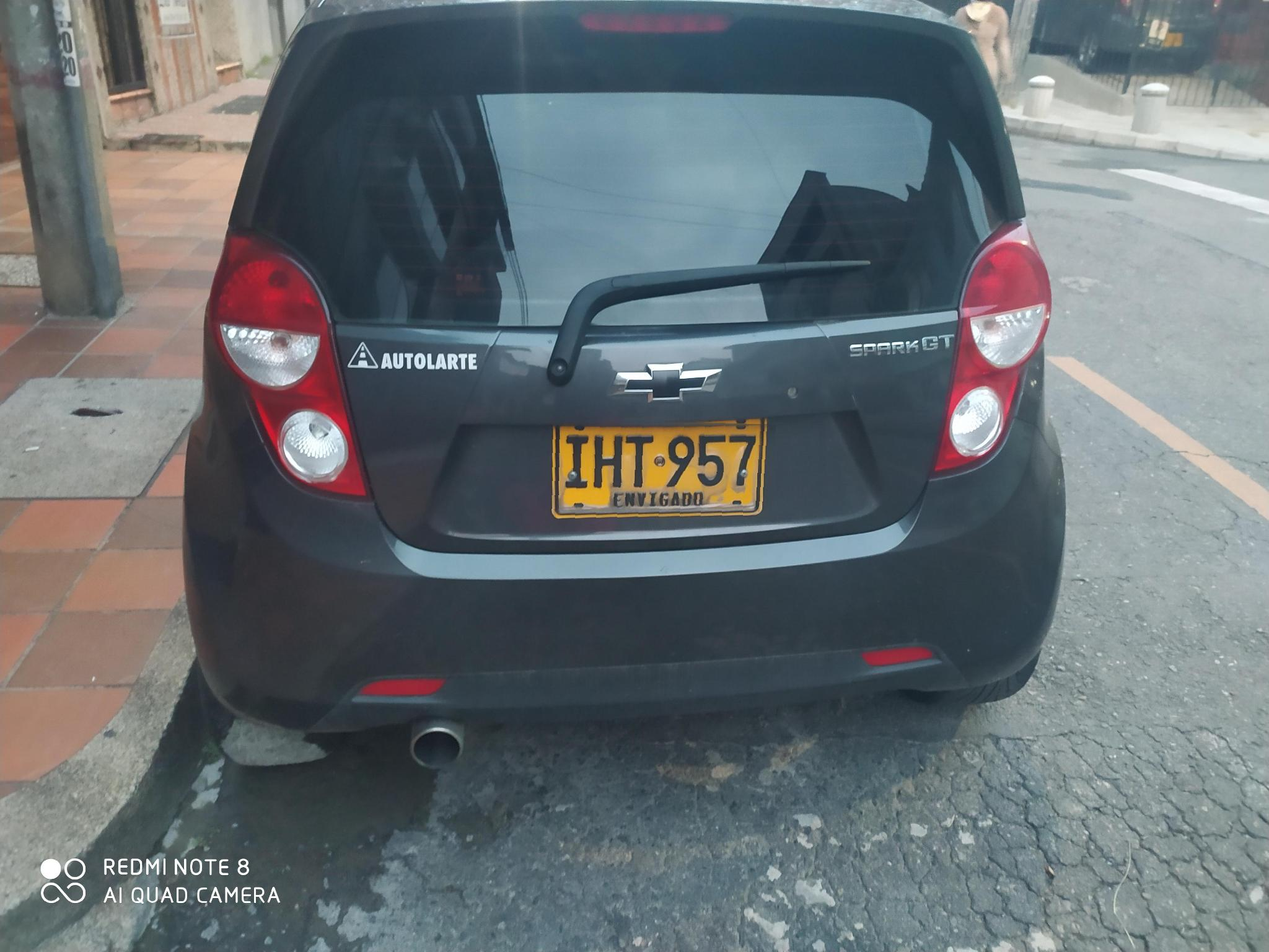placa: (548, 418, 776, 519)
